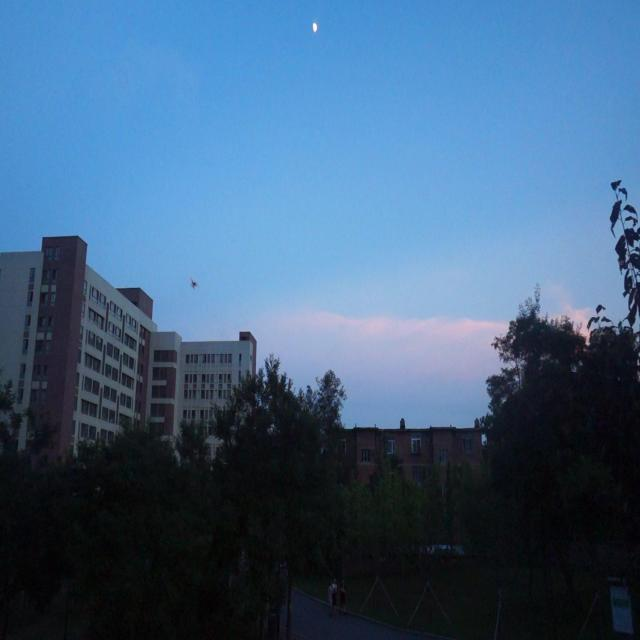drone: (188, 270, 200, 294)
